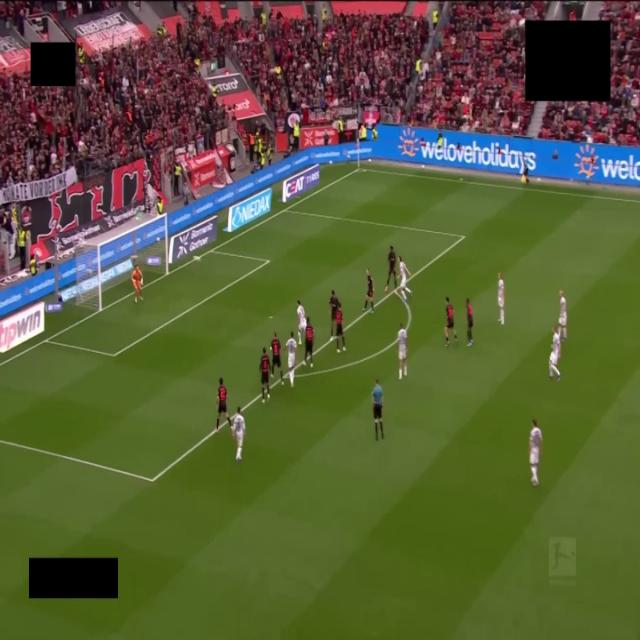ball: (192, 256, 201, 261)
player: (529, 420, 542, 486), (215, 377, 230, 432), (231, 407, 245, 463), (445, 297, 457, 346), (549, 328, 560, 381), (399, 256, 411, 302), (286, 332, 296, 387), (260, 348, 270, 402), (303, 318, 314, 367), (271, 333, 282, 381), (385, 246, 396, 292), (398, 324, 407, 379), (329, 290, 339, 339), (335, 304, 345, 352), (363, 269, 374, 311), (132, 264, 143, 303), (297, 300, 306, 344), (559, 290, 566, 341), (466, 298, 473, 345), (498, 272, 504, 325), (552, 328, 561, 361)
referee: (372, 379, 384, 439)
